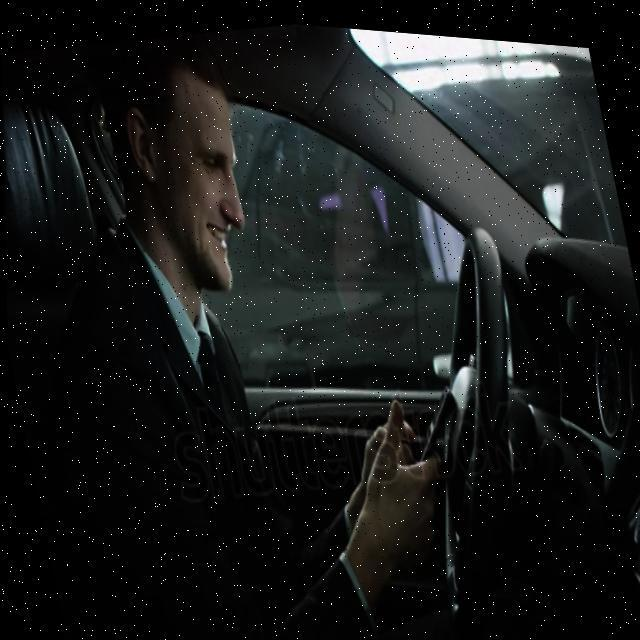PhoneCall: (392, 372, 467, 482)
